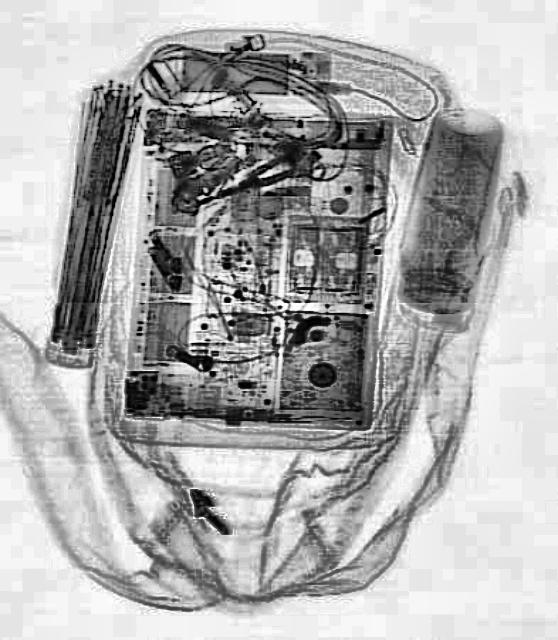Pliers: (215, 148, 297, 202)
